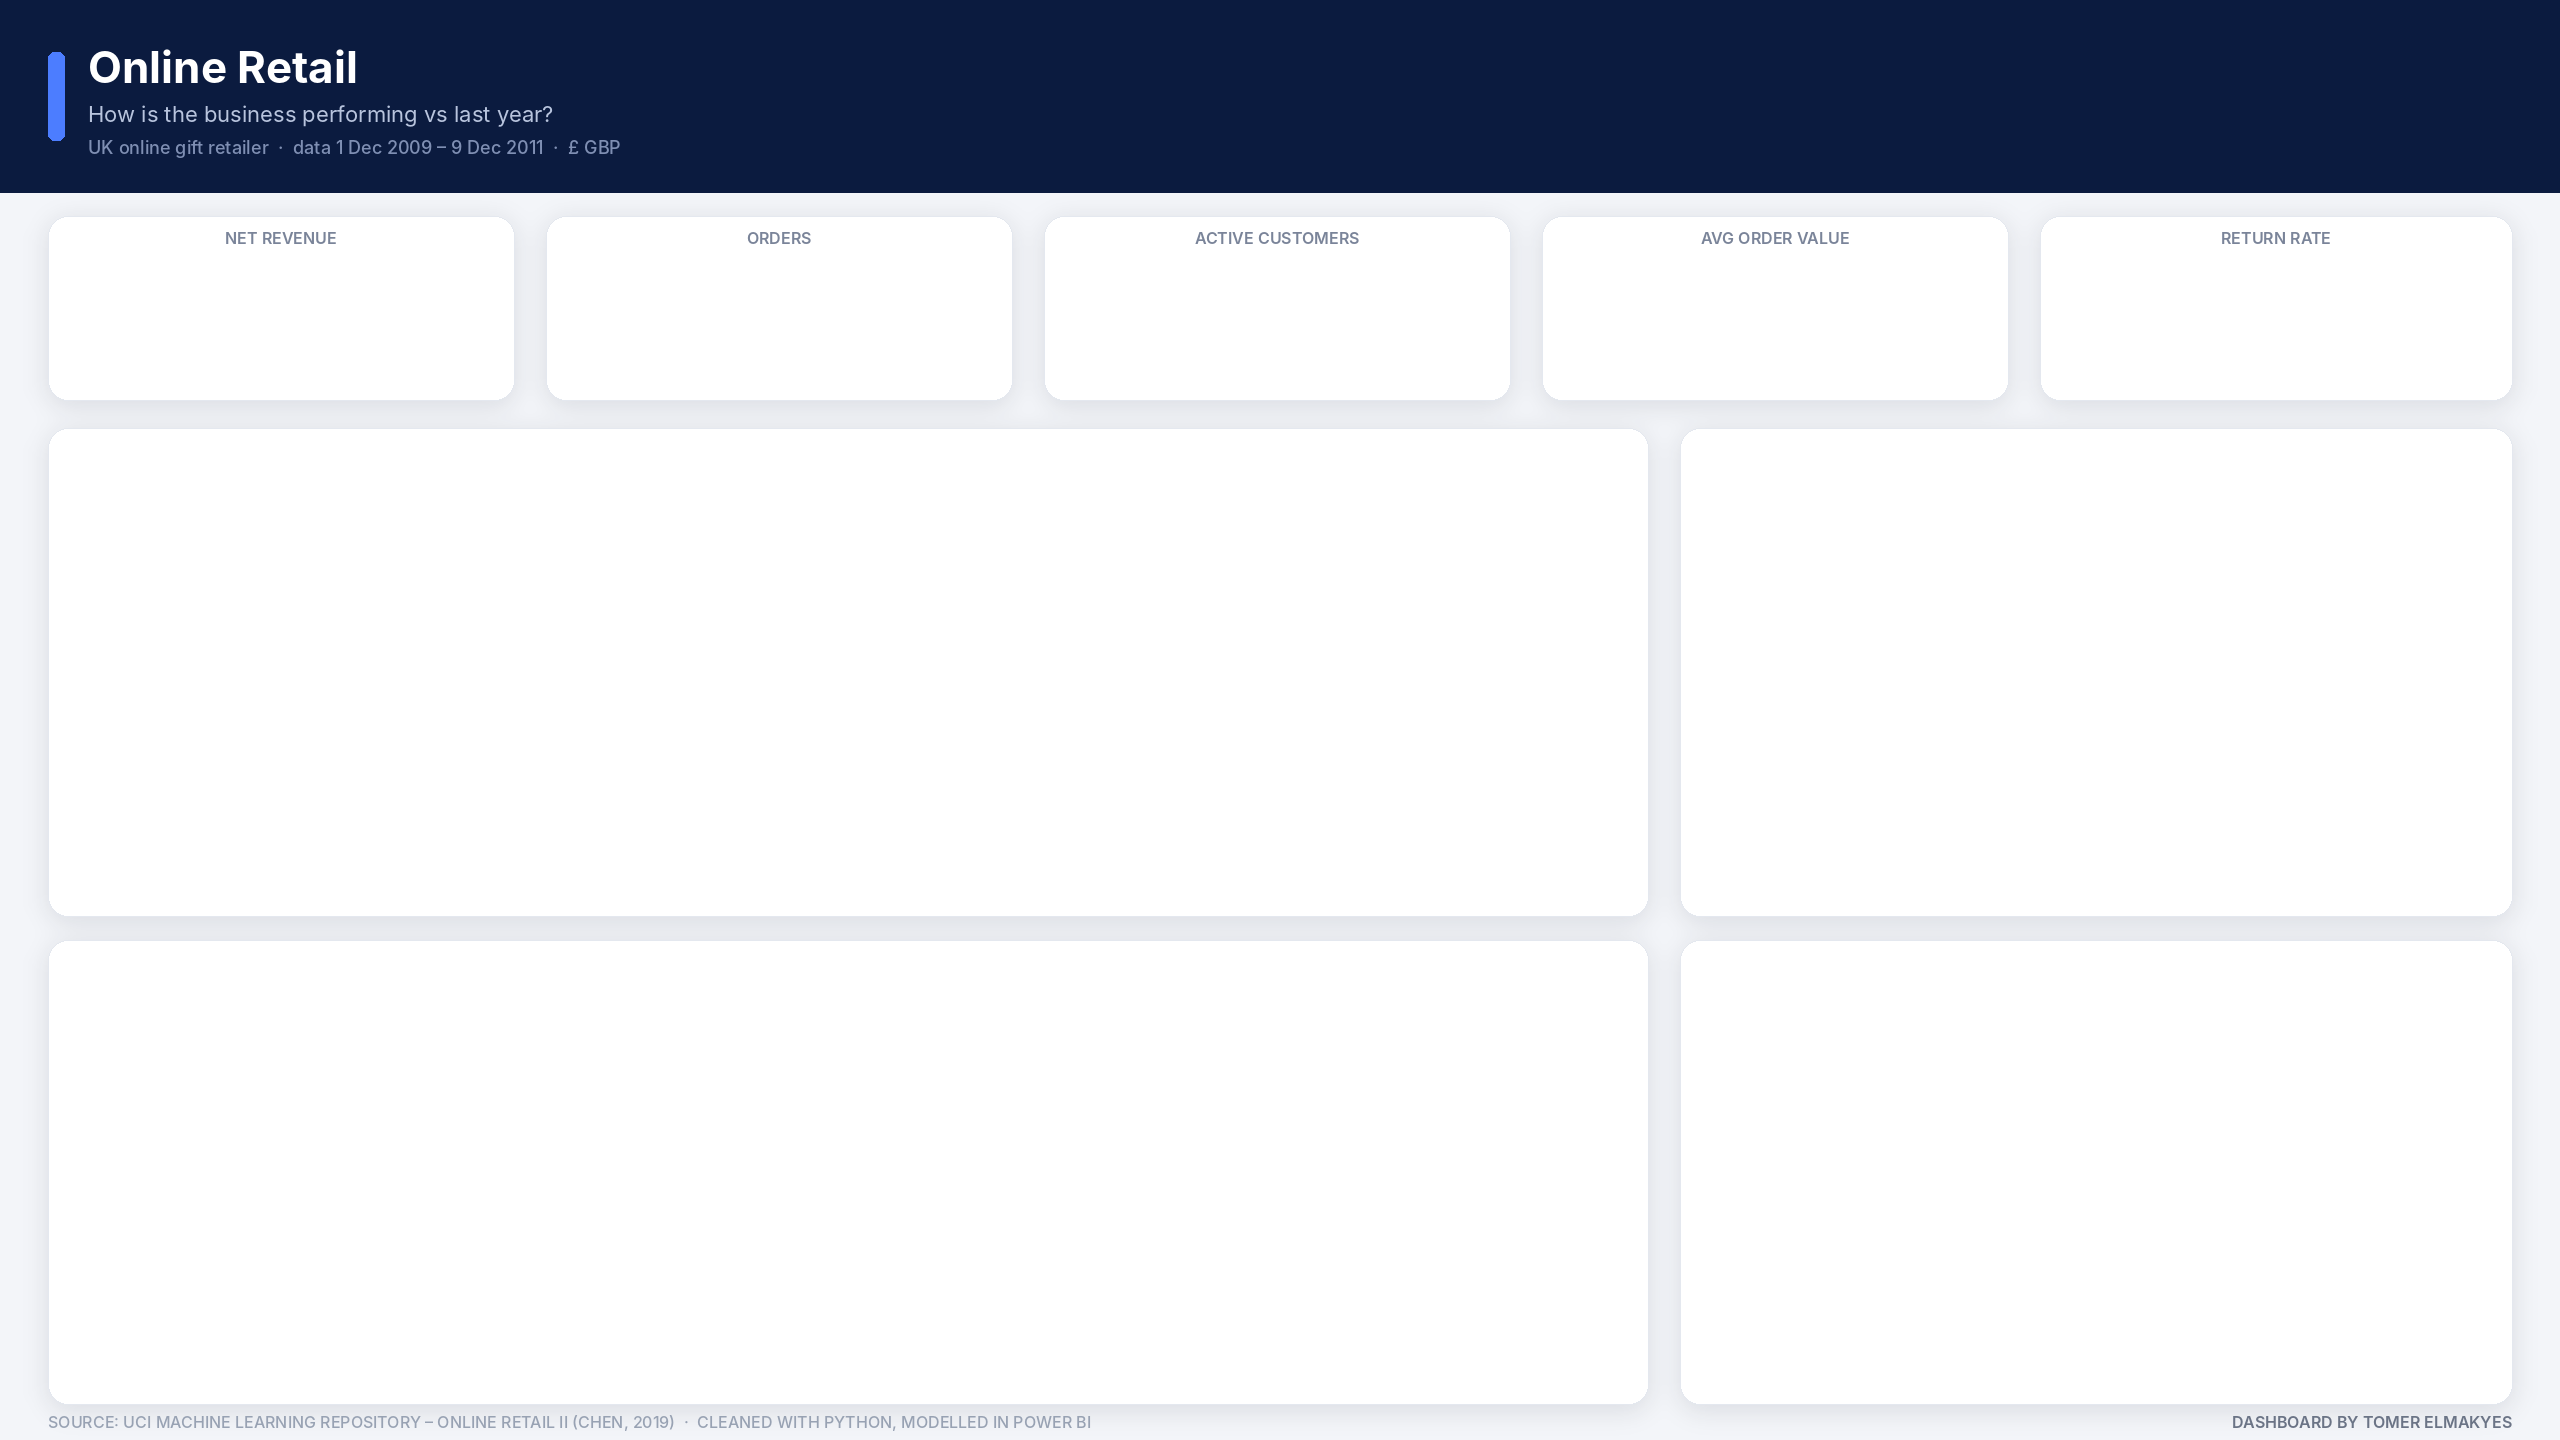

The page's visual inventory and layout, read from the dashboard file:
{"tool":"powerbi","page":{"name":"Overview","canvas":[1280,720],"ordinal":0},"visuals":[{"type":"actionButton","box":[350,34,88,30],"z":100},{"type":"actionButton","box":[444,34,94,30],"z":200},{"type":"actionButton","box":[544,34,88,30],"z":300},{"type":"actionButton","box":[638,34,82,30],"z":400},{"type":"actionButton","box":[726,34,108,30],"z":500},{"type":"slicer","fields":{"Values":["Calendar.Year"]},"box":[880,22,160,62],"z":600},{"type":"slicer","fields":{"Values":["Geography.Market"]},"box":[1056,22,200,62],"z":700},{"type":"card","fields":{"Values":["_Measures.Net Revenue"]},"box":[24,128,233,42],"z":800},{"type":"card","fields":{"Values":["_Measures.Net Revenue vs PY"]},"box":[24,172,233,22],"z":900},{"type":"card","fields":{"Values":["_Measures.Orders"]},"box":[273,128,233,42],"z":1000},{"type":"card","fields":{"Values":["_Measures.Orders vs PY"]},"box":[273,172,233,22],"z":1100},{"type":"card","fields":{"Values":["_Measures.Active Customers"]},"box":[522,128,233,42],"z":1200},{"type":"card","fields":{"Values":["_Measures.Active Customers vs PY"]},"box":[522,172,233,22],"z":1300},{"type":"card","fields":{"Values":["_Measures.Avg Order Value"]},"box":[771,128,233,42],"z":1400},{"type":"card","fields":{"Values":["_Measures.Avg Order Value vs PY"]},"box":[771,172,233,22],"z":1500},{"type":"card","fields":{"Values":["_Measures.Return Rate"]},"box":[1020,128,236,42],"z":1600},{"type":"card","fields":{"Values":["_Measures.Return Rate vs PY"]},"box":[1020,172,236,22],"z":1700},{"type":"lineChart","fields":{"Category":["Calendar.Month"],"Y":["_Measures.Net Revenue","_Measures.Net Revenue PY"]},"box":[24,214,800,244],"z":1800},{"type":"clusteredBarChart","fields":{"Category":["Geography.Country"],"Y":["_Measures.Top 8 International"]},"box":[840,214,416,244],"z":1900},{"type":"pivotTable","title":"When customers order  ·  orders by weekday and hour","fields":{"Rows":["Calendar.Weekday"],"Columns":["Sales.Hour"],"Values":["_Measures.Orders"]},"box":[24,470,800,232],"z":2000},{"type":"donutChart","title":"Where revenue comes from","fields":{"Y":["_Measures.Returning customers","_Measures.New customers","_Measures.Guest checkouts"]},"box":[840,470,416,232],"z":2100}]}

Visuals, with their boxes in screenshot pixels (x1, y1, x2, y2), scaled from the page's 1280x720 canvas onto the 2560x1440 screenshot:
actionButton: x1=700, y1=68, x2=876, y2=128
actionButton: x1=888, y1=68, x2=1076, y2=128
actionButton: x1=1088, y1=68, x2=1264, y2=128
actionButton: x1=1276, y1=68, x2=1440, y2=128
actionButton: x1=1452, y1=68, x2=1668, y2=128
slicer - Calendar.Year: x1=1760, y1=44, x2=2080, y2=168
slicer - Geography.Market: x1=2112, y1=44, x2=2512, y2=168
card - _Measures.Net Revenue: x1=48, y1=256, x2=514, y2=340
card - _Measures.Net Revenue vs PY: x1=48, y1=344, x2=514, y2=388
card - _Measures.Orders: x1=546, y1=256, x2=1012, y2=340
card - _Measures.Orders vs PY: x1=546, y1=344, x2=1012, y2=388
card - _Measures.Active Customers: x1=1044, y1=256, x2=1510, y2=340
card - _Measures.Active Customers vs PY: x1=1044, y1=344, x2=1510, y2=388
card - _Measures.Avg Order Value: x1=1542, y1=256, x2=2008, y2=340
card - _Measures.Avg Order Value vs PY: x1=1542, y1=344, x2=2008, y2=388
card - _Measures.Return Rate: x1=2040, y1=256, x2=2512, y2=340
card - _Measures.Return Rate vs PY: x1=2040, y1=344, x2=2512, y2=388
lineChart - Calendar.Month x _Measures.Net Revenue: x1=48, y1=428, x2=1648, y2=916
clusteredBarChart - Geography.Country x _Measures.Top 8 International: x1=1680, y1=428, x2=2512, y2=916
"When customers order  ·  orders by weekday and hour" pivotTable: x1=48, y1=940, x2=1648, y2=1404
"Where revenue comes from" donutChart: x1=1680, y1=940, x2=2512, y2=1404
